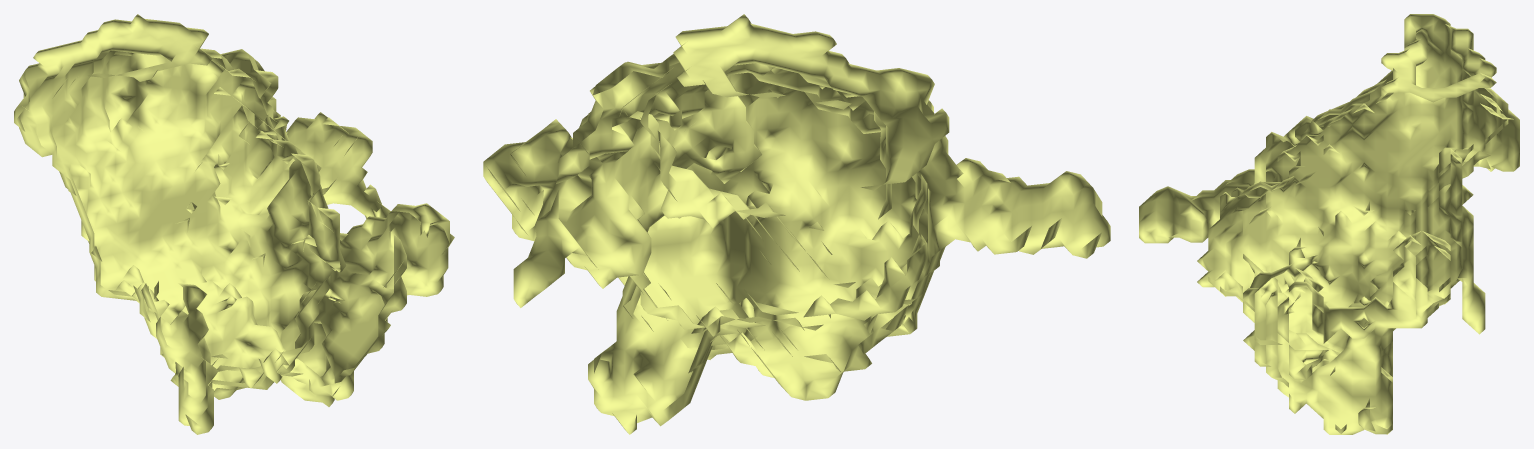
Rendered from osteocyte_46.glb.
The picture shows the model from 3 angles, left to right: view 1: azimuth 30°, elevation 25°; view 2: azimuth 150°, elevation 25°; view 3: azimuth 270°, elevation 25°; orthographic projection. The views are drawn at different scales.
Parts seen in each view (by area): view 1: osteocyte_46; view 2: osteocyte_46; view 3: osteocyte_46.
Part boxes in pixels (x1,y1,x2,y2): osteocyte_46: (14,14,454,434); osteocyte_46: (483,14,1110,434); osteocyte_46: (1139,14,1519,434).
Size of the model in its own units: 15.89 by 14.44 by 15.89.
